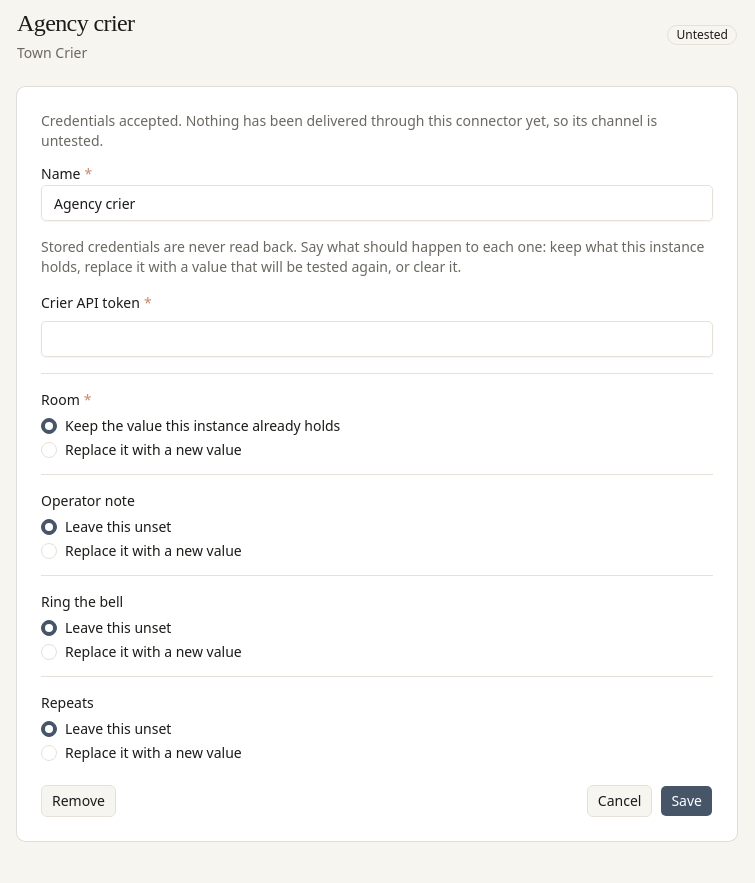
Test case: editing a configured connector › demands a required credential that has never been configured
Click the button "Save".
click(687, 801)  # box [660,785,713,817]
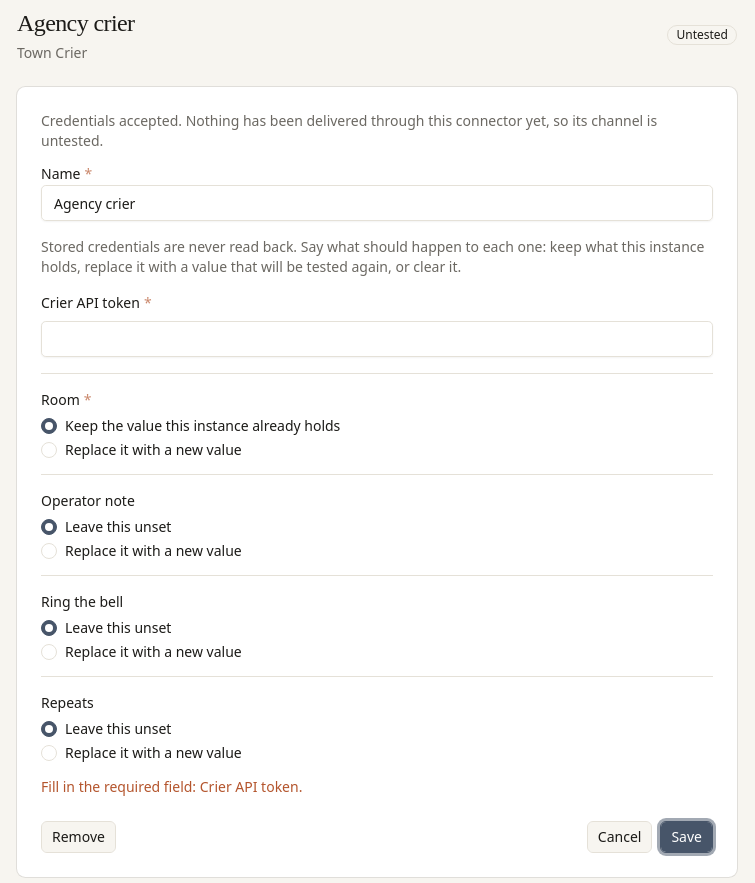
Now the message shows "Crier API token", box [41,777,302,796]
